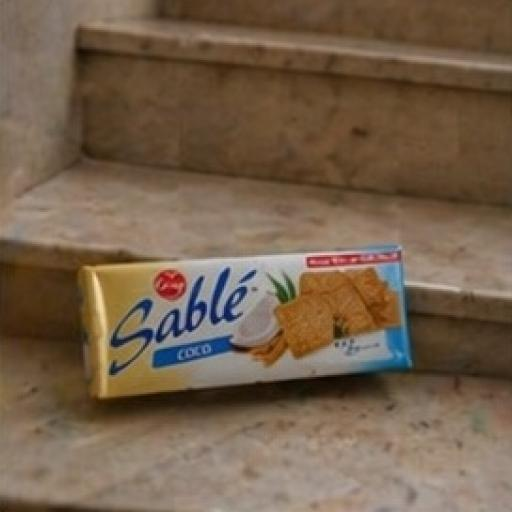sabl: (54, 210, 465, 446)
